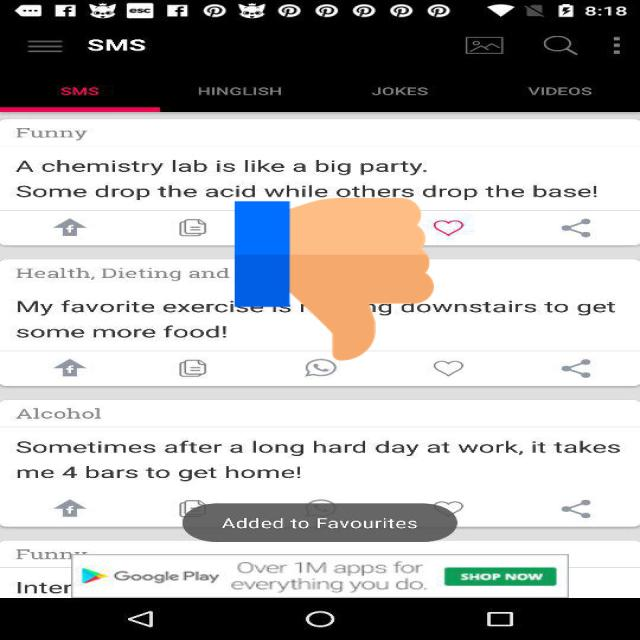obstruction: (234, 194, 433, 365)
